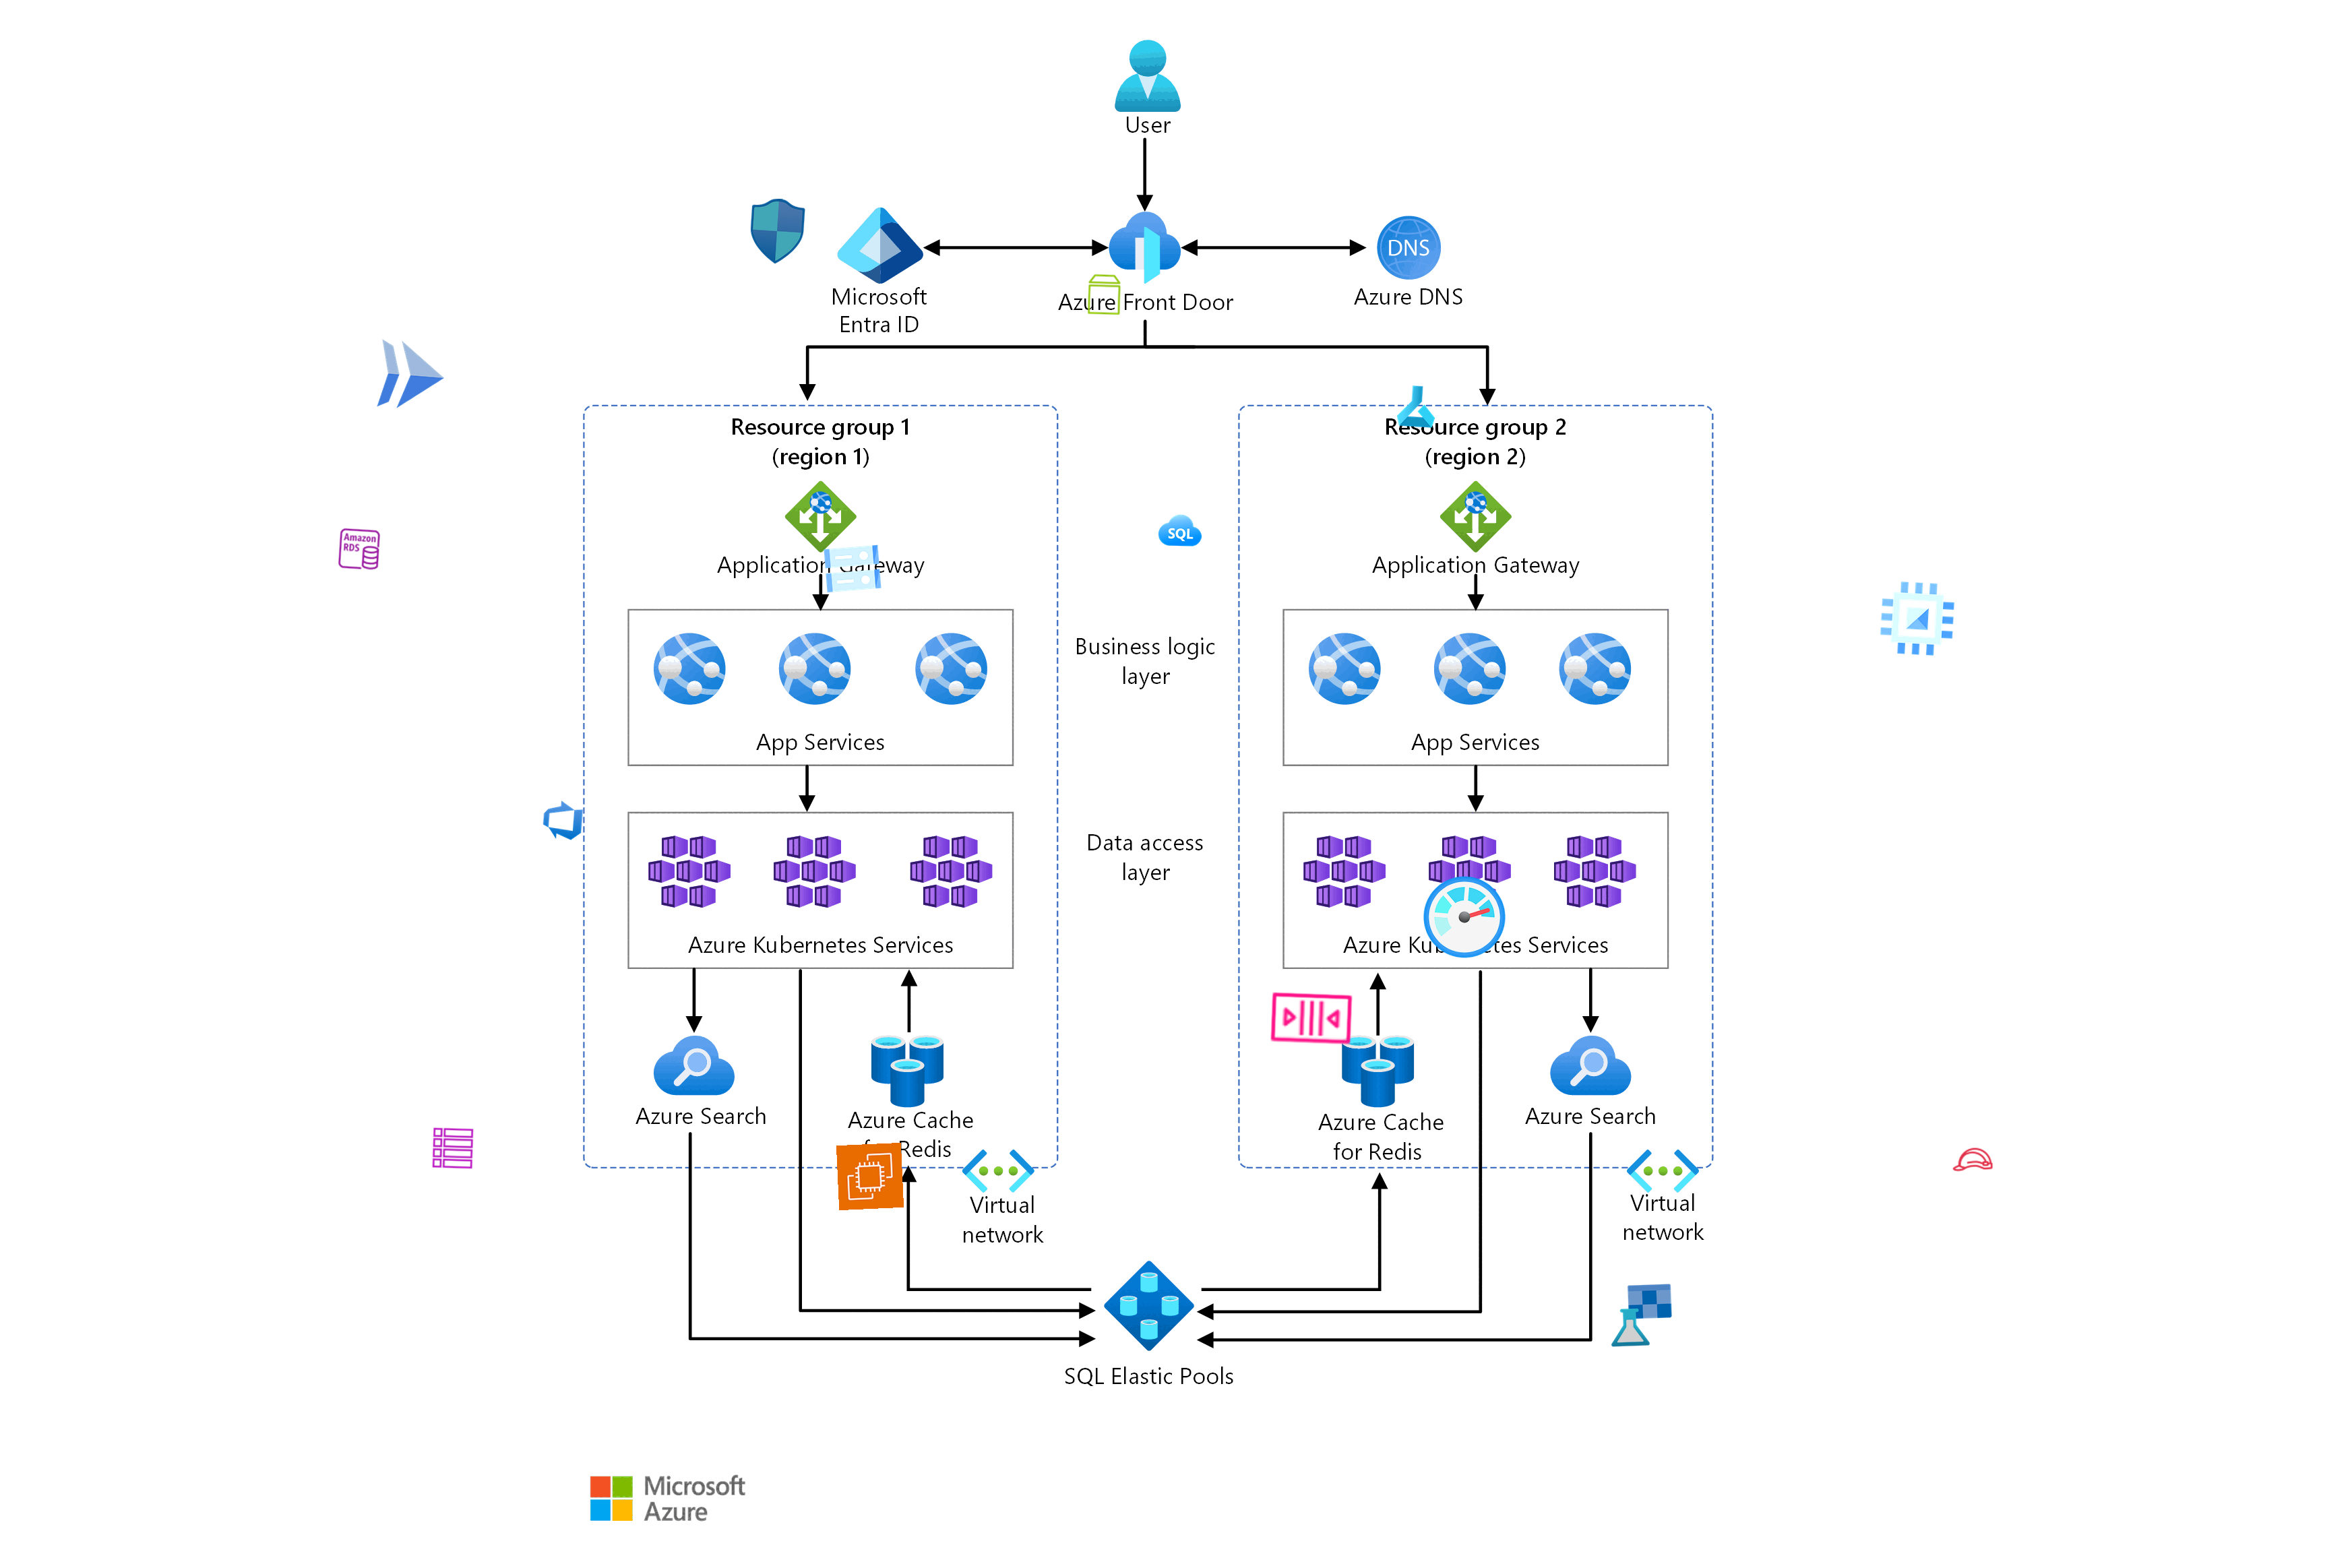aws_amazon_ec2: (836, 1143, 905, 1211)
aws_aurora_amazon_rds_instance: (336, 527, 381, 572)
aws_dynamodb_table: (430, 1125, 474, 1171)
aws_elastic_block_store_volume: (1081, 273, 1127, 317)
aws_identity_access_management_role: (1950, 1138, 1995, 1181)
aws_simple_queue_service_queue: (1267, 973, 1356, 1062)
azure_devops: (539, 796, 586, 844)
azure_machine_learning: (1393, 383, 1440, 429)
azure_machine_learning_studio_workspaces: (1606, 1281, 1675, 1349)
azure_monitor: (1418, 870, 1512, 964)
azure_network_security_groups: (742, 196, 812, 266)
azure_sql: (1158, 509, 1202, 553)
gcp_cloud_run: (364, 329, 457, 422)
gcp_cloud_storage: (817, 534, 887, 604)
gcp_compute_engine: (1871, 572, 1963, 665)
